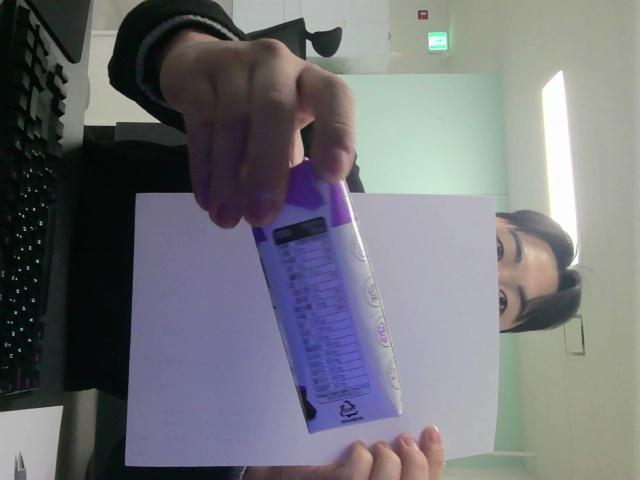milk: (253, 161, 401, 433)
